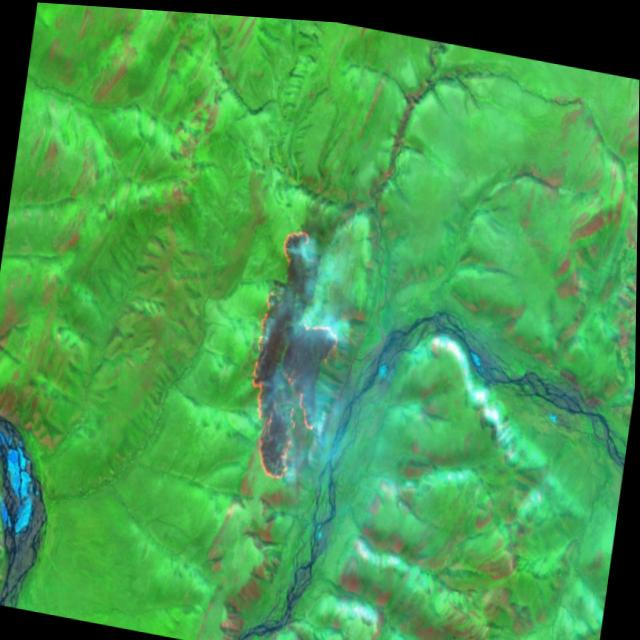fire: (230, 204, 357, 518)
